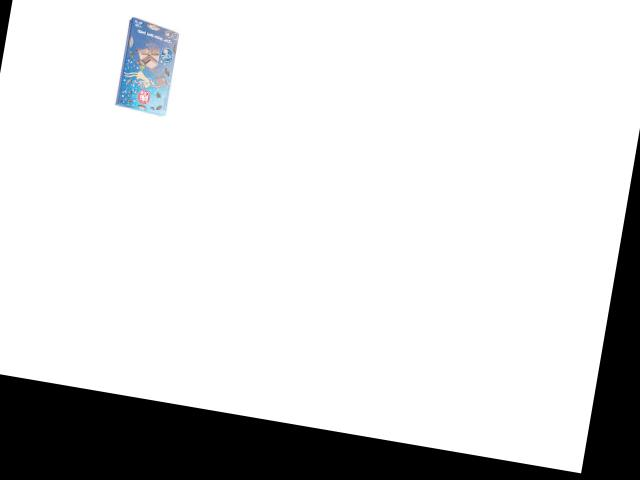chocolate: (108, 15, 187, 119)
